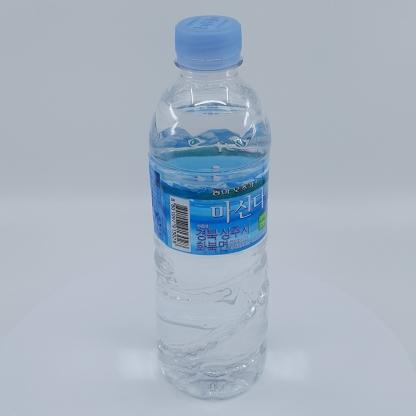-------------500ML: (148, 15, 271, 398)
